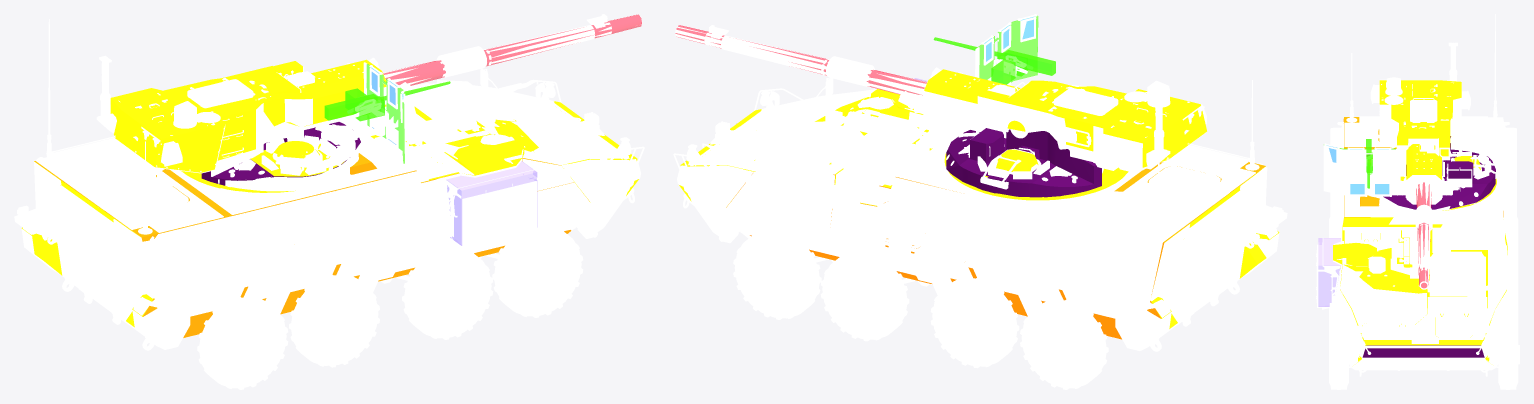
The model's file is M1128MGS.gltf.
3 views of the same model, side by side, from view 1: azimuth 30°, elevation 25°; view 2: azimuth 150°, elevation 25°; view 3: azimuth 270°, elevation 25° (orthographic). The views are drawn at different scales.
Parts seen in each view (by area): view 1: 51_2, 51_3, MGS_Gun_Col_23, 51_8, 51_5, 51_7, 51_4, 51_1, stryker_col_arm001_1, stryker_col_arm001_2, MGS_Barrel_Col2_29, MGS_Barrel_Col_20 (+5 smaller); view 2: 51_2, 51_3, MGS_Gun_Col_23, 51_8, 51_4, MGS_Turret_Col, 51_7, stryker_col_arm001_2, 51_5, MGS_Turret_Col_1, MGS_Barrel_Col3_35, stryker_col_arm001_1 (+3 smaller); view 3: 51_2, MGS_Gun_Col_23, 51_7, stryker_col_arm001, 51_8, 51_4, 51_3, MGS_Turret_Col, 51_5, stryker_col_arm001_3, MGS_Barrel_Col_20, stryker_col_arm001_1 (+7 smaller).
Part boxes in pixels (<box>): 51_2: <box>14,19,644,350</box>; 51_3: <box>197,223,583,389</box>; MGS_Gun_Col_23: <box>110,59,386,172</box>; 51_8: <box>173,14,642,129</box>; 51_5: <box>211,122,365,193</box>; 51_7: <box>321,62,537,248</box>; 51_4: <box>96,55,312,173</box>; 51_1: <box>446,162,537,248</box>; stryker_col_arm001_1: <box>21,140,524,327</box>; stryker_col_arm001_2: <box>34,153,589,337</box>; MGS_Barrel_Col2_29: <box>383,14,641,85</box>; MGS_Barrel_Col_20: <box>446,161,537,245</box>; 51_2: <box>673,78,1287,351</box>; 51_3: <box>733,228,1108,389</box>; MGS_Gun_Col_23: <box>924,69,1206,176</box>; 51_8: <box>675,25,1170,173</box>; 51_4: <box>999,82,1206,173</box>; MGS_Turret_Col: <box>946,128,1101,197</box>; 51_7: <box>975,14,1037,85</box>; stryker_col_arm001_2: <box>726,162,1265,339</box>; 51_5: <box>944,85,1086,189</box>; MGS_Turret_Col_1: <box>944,149,1128,200</box>; MGS_Barrel_Col3_35: <box>933,37,1055,84</box>; stryker_col_arm001_1: <box>870,89,1279,328</box>; 51_2: <box>1329,14,1517,376</box>; MGS_Gun_Col_23: <box>1379,80,1461,179</box>; 51_7: <box>1316,143,1400,308</box>; stryker_col_arm001: <box>1340,217,1507,362</box>; 51_8: <box>1385,77,1458,289</box>; 51_4: <box>1370,42,1470,164</box>; 51_3: <box>1329,217,1519,389</box>; MGS_Turret_Col: <box>1367,136,1495,209</box>; 51_5: <box>1367,149,1499,212</box>; stryker_col_arm001_3: <box>1362,345,1484,357</box>; MGS_Barrel_Col_20: <box>1318,238,1340,306</box>; stryker_col_arm001_1: <box>1333,242,1378,271</box>.
Bounding box in the file's own units: 7.56 × 3.94 × 3.13.
